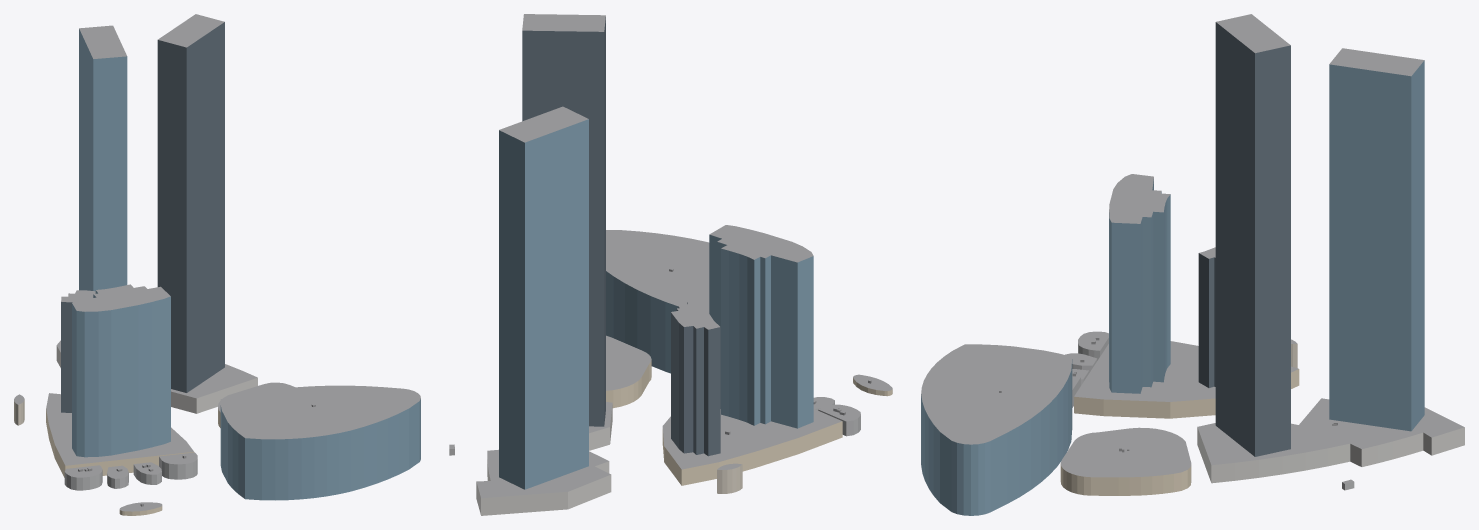
File: building_-3_1.glb
3 views of the same model, side by side, from view 1: azimuth 30°, elevation 25°; view 2: azimuth 150°, elevation 25°; view 3: azimuth 270°, elevation 25° (orthographic). The views are drawn at different scales.
Visible parts, largest first — view 1: glass_blue, glass_dark, roof, industrial, sandstone, concrete_light; view 2: glass_blue, roof, glass_dark, sandstone, concrete_light, concrete_warm; view 3: glass_blue, glass_dark, roof, sandstone, concrete_light.
Part boxes in pixels (x1,y1,x2,y2): glass_blue: (72,29,420,500); glass_dark: (61,22,224,412); roof: (14,14,420,511); industrial: (64,457,197,490); sandstone: (46,408,220,515); concrete_light: (56,346,257,413); glass_blue: (499,119,813,489); roof: (449,14,892,498); glass_dark: (522,17,720,456); sandstone: (606,360,892,485); concrete_light: (476,405,612,515); concrete_warm: (717,464,742,493); glass_blue: (921,60,1424,515); glass_dark: (1198,22,1290,456); roof: (921,14,1464,483); sandstone: (1060,369,1299,495); concrete_light: (1197,427,1464,483).
Size of the model in its own units: 224 by 260 by 304.
